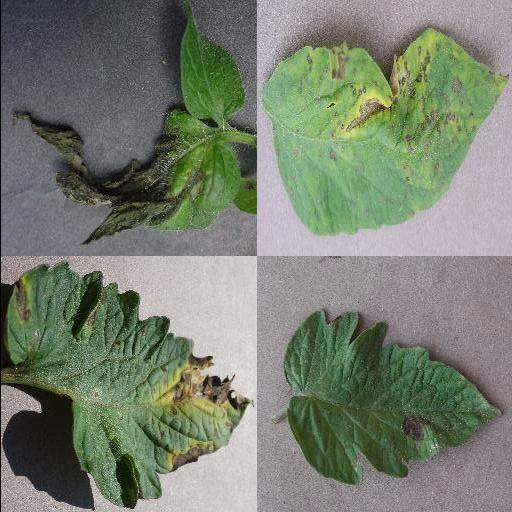Early Blight: (2, 264, 248, 508), (283, 313, 505, 488)
Healthy: (178, 8, 246, 118)
Late Blight: (9, 110, 241, 248)
Septoria: (259, 30, 509, 234)
